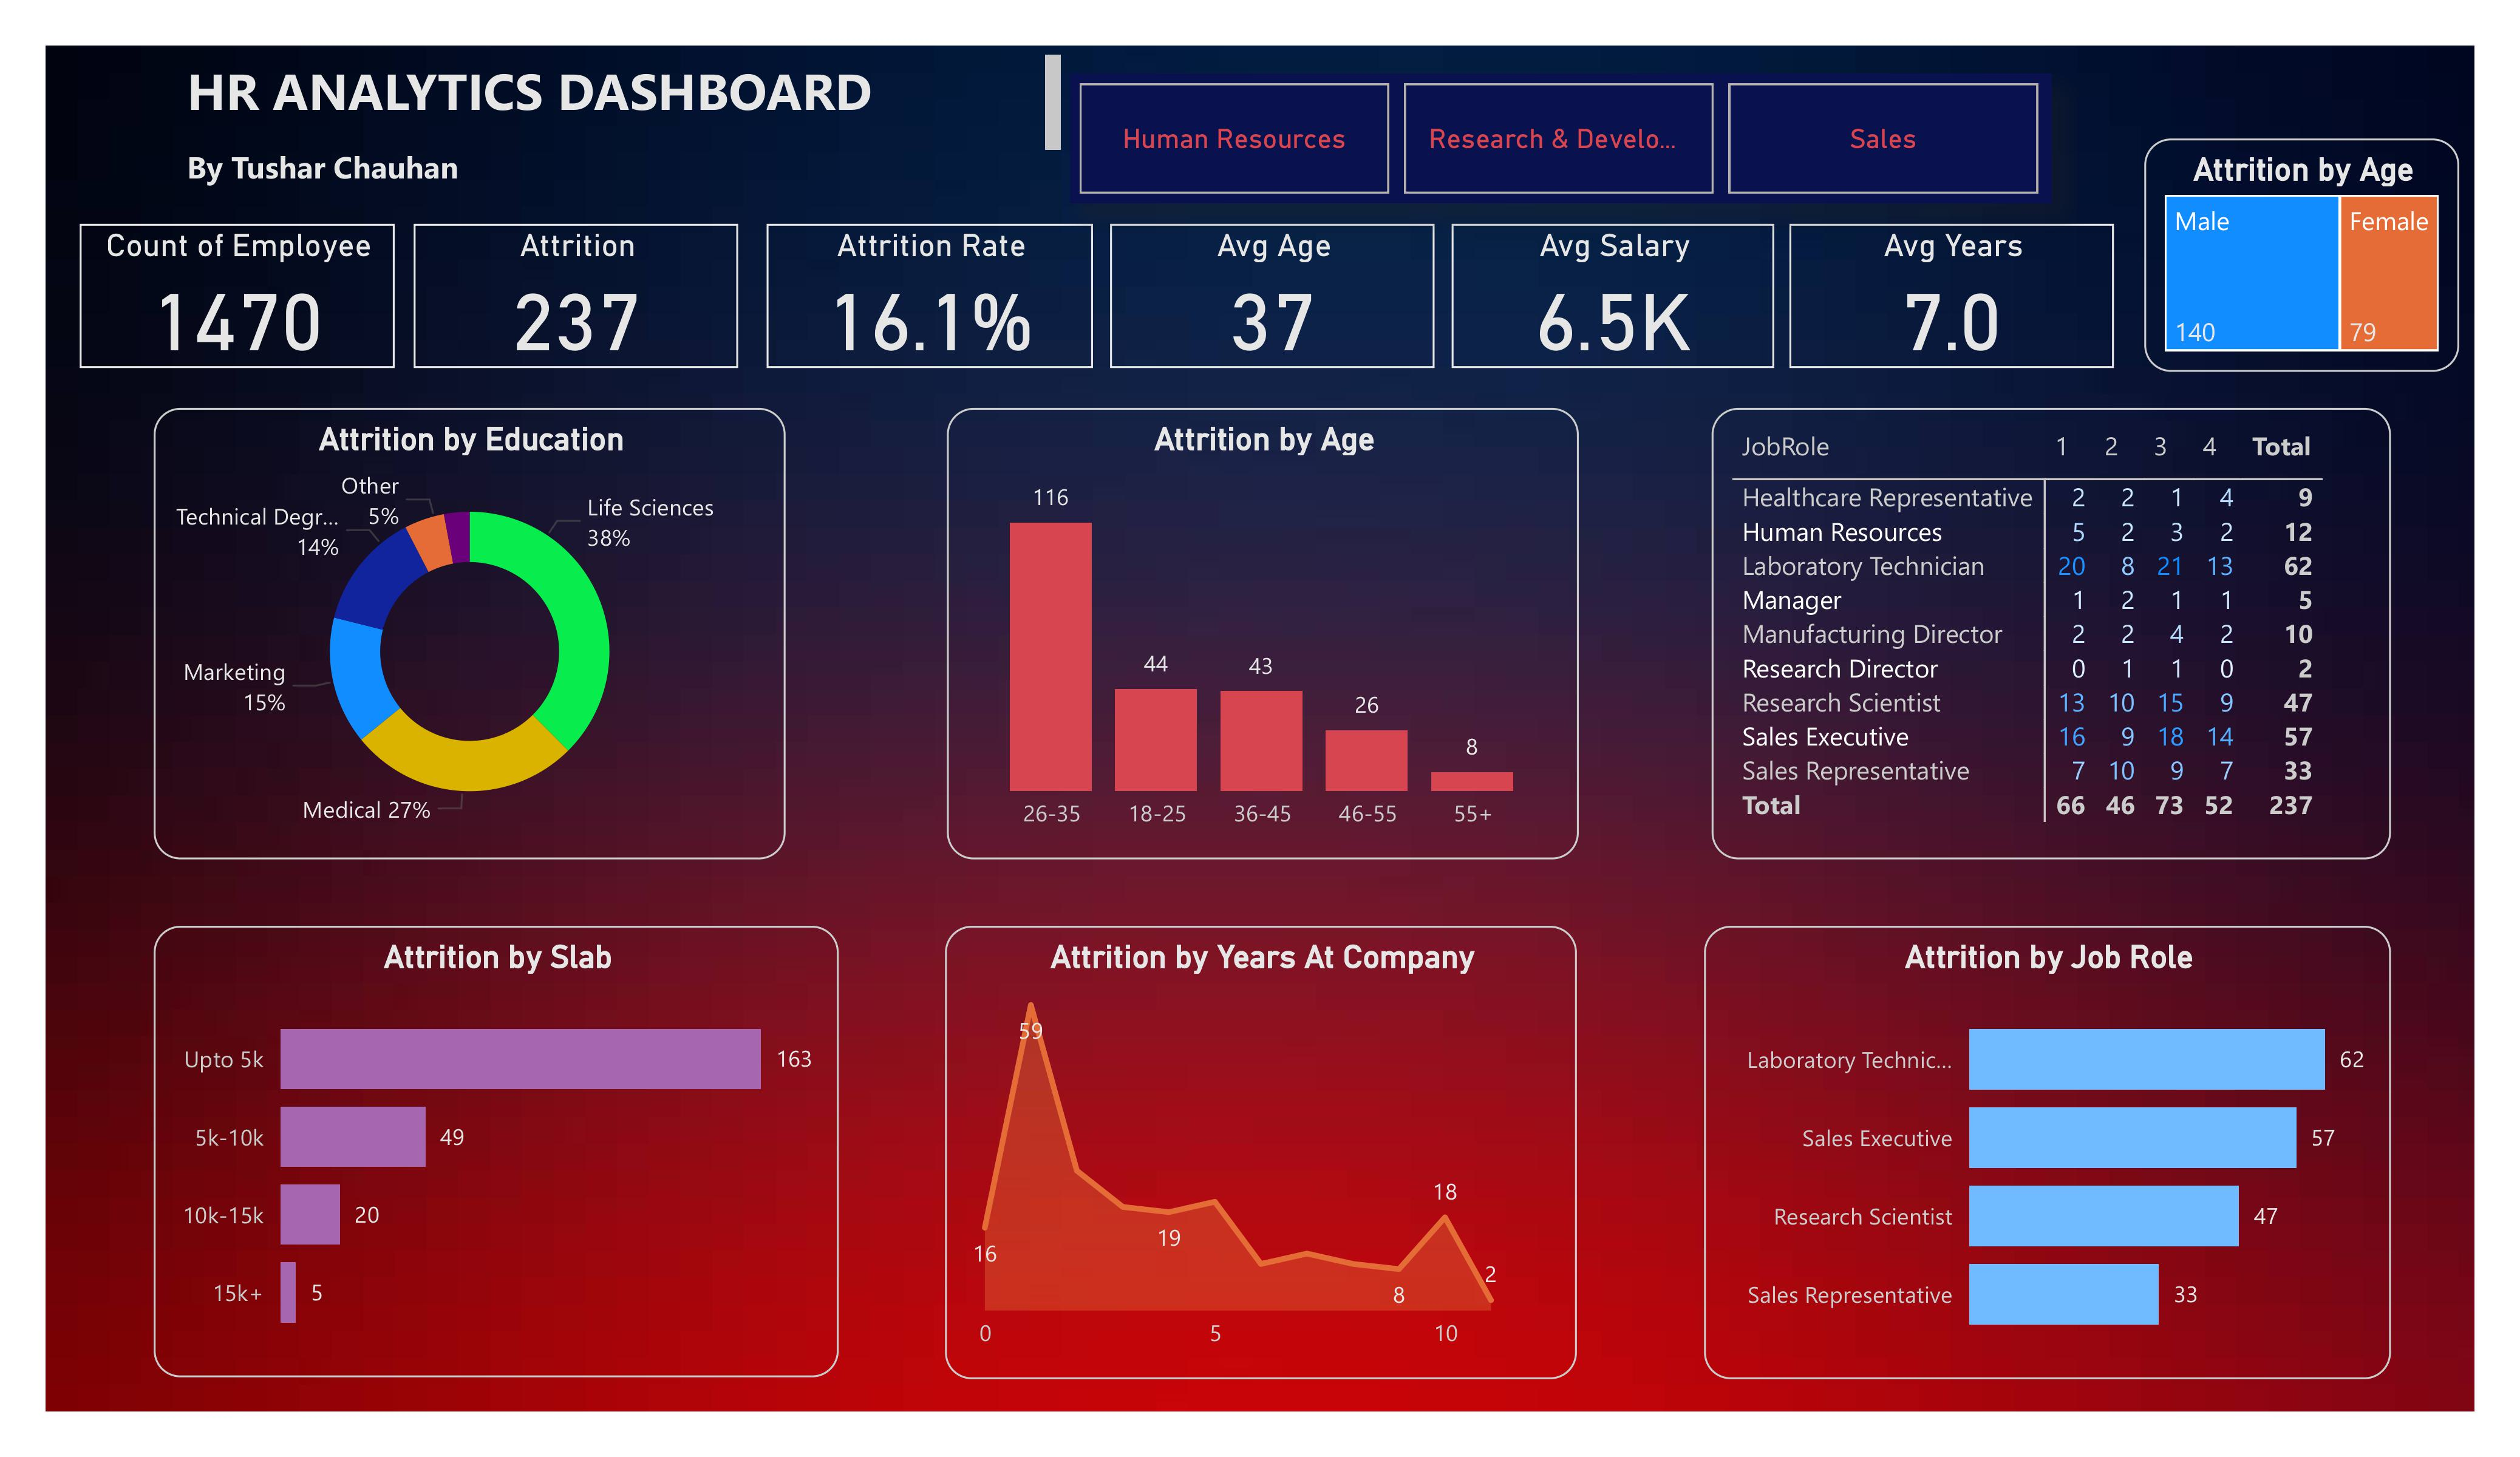

The page's visual inventory and layout, read from the dashboard file:
{"tool":"powerbi","page":{"name":"Page 1","canvas":[1280,720],"ordinal":0},"visuals":[{"type":"card","title":"Count of Employee","fields":{"Values":["CountNonNull(HR_Analytics.EmpID)"]},"box":[18.3,94.1,166,75.8],"z":0},{"type":"card","title":"Attrition","fields":{"Values":["Sum(HR_Analytics.AttritionCount)"]},"box":[193.5,94.1,171.3,75.8],"z":1000},{"type":"card","title":"Attrition Rate","fields":{"Values":["HR_Analytics.AttritionRate"]},"box":[380.5,94.1,171.3,75.8],"z":2000},{"type":"card","title":"Avg Age","fields":{"Values":["Avg(HR_Analytics.Age)"]},"box":[560.9,94.1,171.3,75.8],"z":3000},{"type":"card","title":"Avg Years","fields":{"Values":["Avg(HR_Analytics.YearsAtCompany)"]},"box":[919.1,94.1,171.3,75.8],"z":4000},{"type":"card","title":"Avg Salary","fields":{"Values":["Avg(HR_Analytics.MonthlyIncome)"]},"box":[741.3,94.1,170,75.8],"z":5000},{"type":"donutChart","title":"Attrition by Education","fields":{"Category":["HR_Analytics.EducationField"],"Y":["Sum(HR_Analytics.AttritionCount)"]},"box":[56.8,191,333,238.3],"z":6000},{"type":"columnChart","title":"Attrition by Age","fields":{"Category":["HR_Analytics.AgeGroup"],"Y":["Sum(HR_Analytics.AttritionCount)"]},"box":[475.1,191,333,238.3],"z":7000},{"type":"pivotTable","fields":{"Rows":["HR_Analytics.JobRole"],"Columns":["HR_Analytics.JobSatisfaction"],"Values":["Sum(HR_Analytics.AttritionCount)"]},"box":[877.5,191,358.3,238.3],"z":8000},{"type":"barChart","title":"Attrition by Slab","fields":{"Category":["HR_Analytics.SalarySlab"],"Y":["Sum(HR_Analytics.AttritionCount)"]},"box":[56.8,464,361.4,238.3],"z":9000},{"type":"barChart","title":"Attrition by Job Role","fields":{"Y":["Sum(HR_Analytics.AttritionCount)"],"Category":["HR_Analytics.JobRole"]},"box":[873.8,464.2,361.8,238.9],"z":10000},{"type":"areaChart","title":"Attrition by Years At Company","fields":{"Category":["HR_Analytics.YearsAtCompany"],"Y":["Sum(HR_Analytics.AttritionCount)"]},"box":[474.5,464.2,332.2,238.9],"z":11000},{"type":"treemap","title":"Attrition by Age","fields":{"Group":["HR_Analytics.Gender"],"Values":["Sum(HR_Analytics.AttritionCount)"]},"box":[1105.9,48.9,166.1,122.9],"z":12000},{"type":"advancedSlicerVisual","fields":{"Values":["HR_Analytics.Department"]},"box":[540.4,14.8,516.6,68.3],"z":13000},{"type":"textbox","box":[18,0,522,83],"z":14000}]}

Visuals, with their boxes in screenshot pixels (x1, y1, x2, y2):
"Count of Employee" card: crop(80, 224, 395, 368)
"Attrition" card: crop(413, 224, 738, 368)
"Attrition Rate" card: crop(768, 224, 1092, 368)
"Avg Age" card: crop(1110, 224, 1435, 368)
"Avg Years" card: crop(1790, 224, 2115, 368)
"Avg Salary" card: crop(1452, 224, 1775, 368)
"Attrition by Education" donutChart: crop(153, 408, 785, 860)
"Attrition by Age" columnChart: crop(947, 408, 1579, 860)
pivotTable - HR_Analytics.JobRole x HR_Analytics.JobSatisfaction: crop(1711, 408, 2391, 860)
"Attrition by Slab" barChart: crop(153, 926, 839, 1378)
"Attrition by Job Role" barChart: crop(1704, 926, 2390, 1379)
"Attrition by Years At Company" areaChart: crop(946, 926, 1576, 1379)
"Attrition by Age" treemap: crop(2144, 138, 2459, 372)
advancedSlicerVisual - HR_Analytics.Department: crop(1071, 73, 2051, 203)
textbox: crop(80, 46, 1070, 203)
